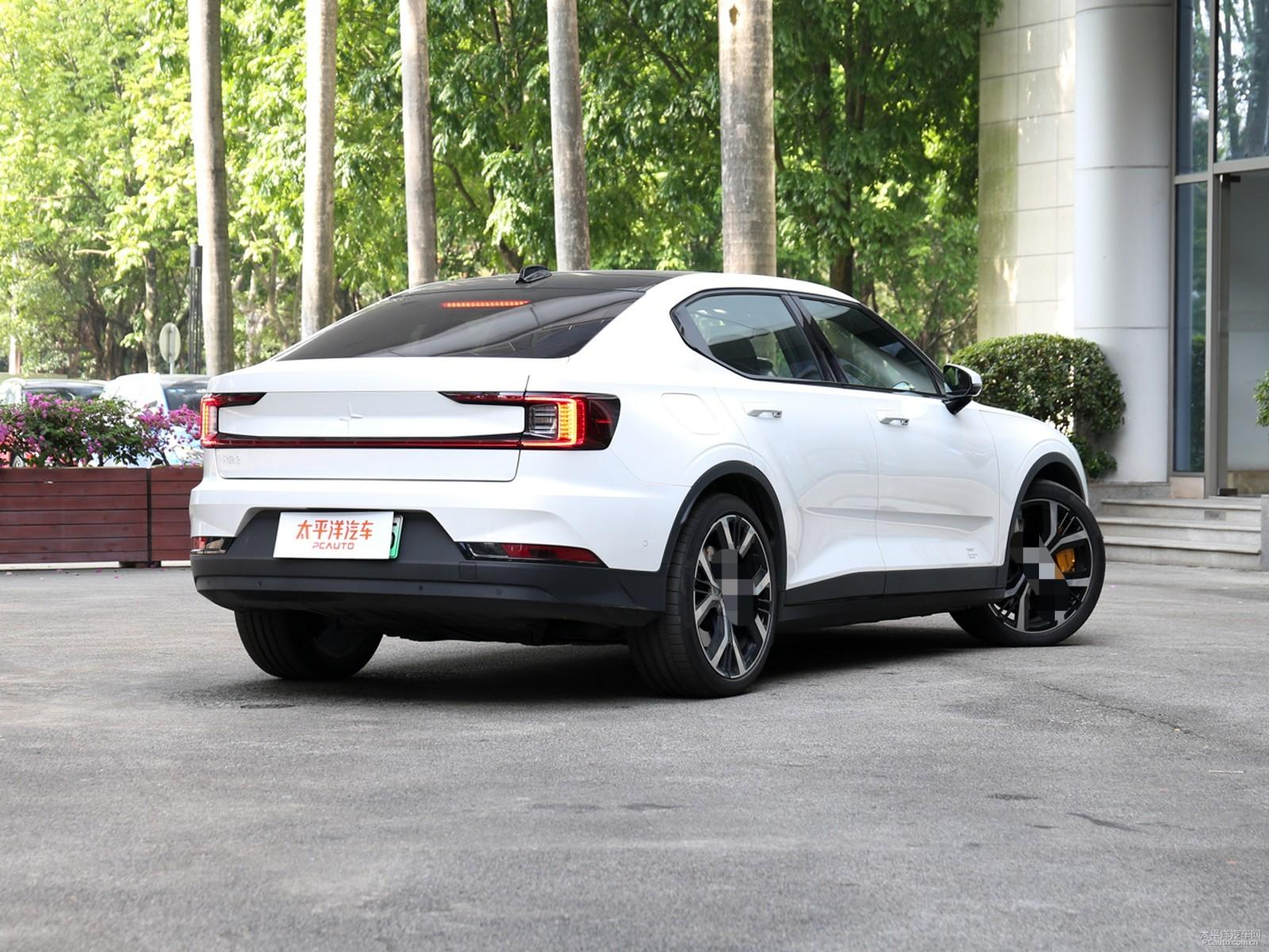Polestar: (339, 404, 362, 432)
